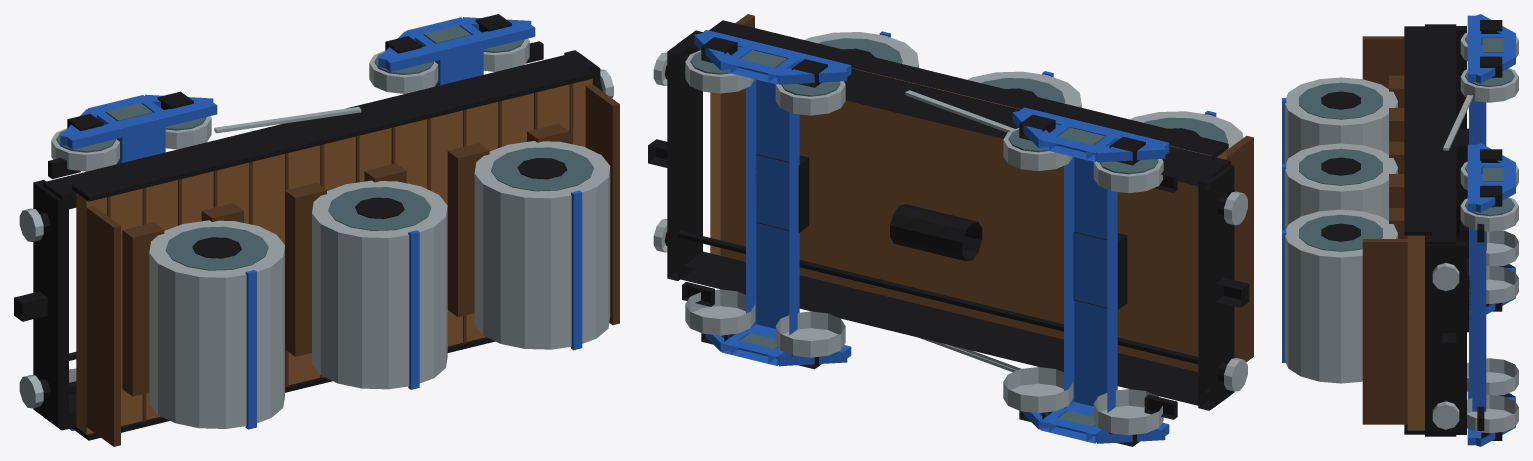
The model's file is loaded.glb.
3 renders of one model, left to right at view 1: azimuth 30°, elevation 25°; view 2: azimuth 150°, elevation 25°; view 3: azimuth 270°, elevation 25°, orthographic. The views are drawn at different scales.
Parts seen in each view (by area): view 1: loaded_deck, loaded_coil0.0, loaded_coil2.25, loaded_coil-2.25, loaded_side1_-3.50_1.90, loaded_bogie-1, loaded_bogie1, loaded_bulkhead-1, loaded_headstock-1, loaded_solebar1, loaded_chock2.25-1, loaded_chock-2.25-1 (+17 smaller); view 2: loaded_deck, loaded_bogie1, loaded_bogie-1, loaded_solebar-1, loaded_side1_-3.50_1.90, loaded_headstock-1, loaded_headstock1, loaded_solebar1, loaded_bulkhead-1, loaded_brake_cylinder, loaded_brake_pipe, loaded_buffers-1 (+11 smaller); view 3: loaded_coil2.25, loaded_bogie1, loaded_bulkhead1, loaded_bogie-1, loaded_headstock1, loaded_side1_-3.50_1.90, loaded_solebar1, loaded_coil-2.25, loaded_coil0.0, loaded_deck, loaded_wrap-2.251, loaded_wrap0.01 (+16 smaller).
Boxes of the visible parts, x1=… form: loaded_deck: x1=76, y1=79, x2=592, y2=434; loaded_coil0.0: x1=312, y1=180, x2=447, y2=389; loaded_coil2.25: x1=474, y1=141, x2=610, y2=349; loaded_coil-2.25: x1=149, y1=220, x2=284, y2=428; loaded_side1_-3.50_1.90: x1=72, y1=61, x2=594, y2=201; loaded_bogie-1: x1=51, y1=91, x2=217, y2=430; loaded_bogie1: x1=369, y1=14, x2=535, y2=93; loaded_bulkhead-1: x1=86, y1=206, x2=120, y2=446; loaded_headstock-1: x1=33, y1=180, x2=68, y2=427; loaded_solebar1: x1=43, y1=52, x2=596, y2=210; loaded_chock2.25-1: x1=447, y1=143, x2=489, y2=317; loaded_chock-2.25-1: x1=122, y1=222, x2=164, y2=396; loaded_deck: x1=710, y1=68, x2=1226, y2=372; loaded_bogie1: x1=685, y1=30, x2=851, y2=369; loaded_bogie-1: x1=1003, y1=107, x2=1169, y2=446; loaded_solebar-1: x1=677, y1=251, x2=1230, y2=408; loaded_side1_-3.50_1.90: x1=709, y1=20, x2=1228, y2=160; loaded_headstock-1: x1=1198, y1=165, x2=1234, y2=410; loaded_headstock1: x1=667, y1=44, x2=702, y2=280; loaded_solebar1: x1=677, y1=30, x2=1230, y2=188; loaded_bulkhead-1: x1=1226, y1=135, x2=1253, y2=362; loaded_brake_cylinder: x1=890, y1=204, x2=982, y2=261; loaded_brake_pipe: x1=678, y1=230, x2=1198, y2=364; loaded_buffers-1: x1=1215, y1=191, x2=1249, y2=391; loaded_coil2.25: x1=1285, y1=209, x2=1397, y2=383; loaded_bogie1: x1=1460, y1=143, x2=1518, y2=446; loaded_bulkhead1: x1=1362, y1=239, x2=1407, y2=424; loaded_bogie-1: x1=1460, y1=14, x2=1518, y2=314; loaded_headstock1: x1=1425, y1=241, x2=1466, y2=434; loaded_side1_-3.50_1.90: x1=1404, y1=26, x2=1431, y2=235; loaded_solebar1: x1=1425, y1=24, x2=1456, y2=244; loaded_coil-2.25: x1=1285, y1=77, x2=1397, y2=163; loaded_coil0.0: x1=1285, y1=143, x2=1397, y2=229; loaded_deck: x1=1407, y1=235, x2=1424, y2=430; loaded_wrap-2.251: x1=1299, y1=82, x2=1382, y2=119; loaded_wrap0.01: x1=1299, y1=148, x2=1382, y2=185.
Bounding box in the file's own units: 8.2 × 3.9 × 3.41.
